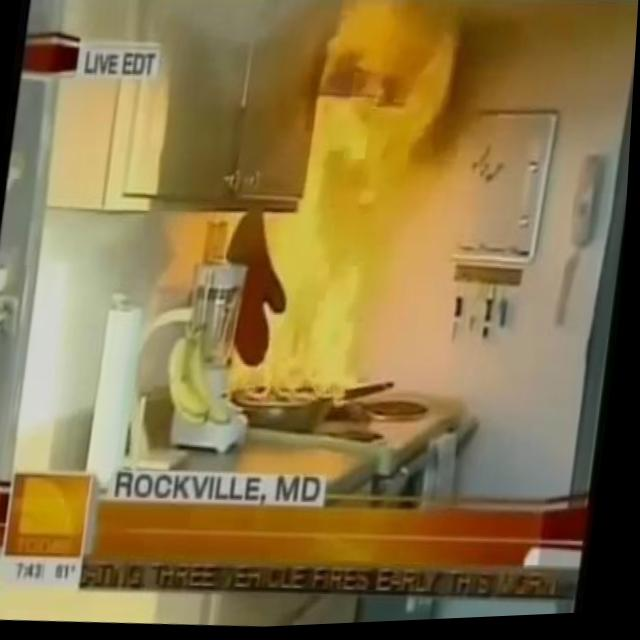fire: (213, 0, 462, 410)
